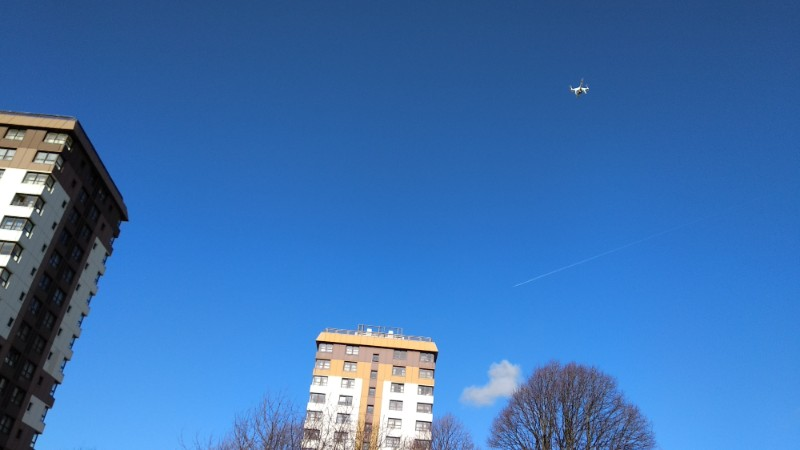drone: (568, 76, 591, 100)
